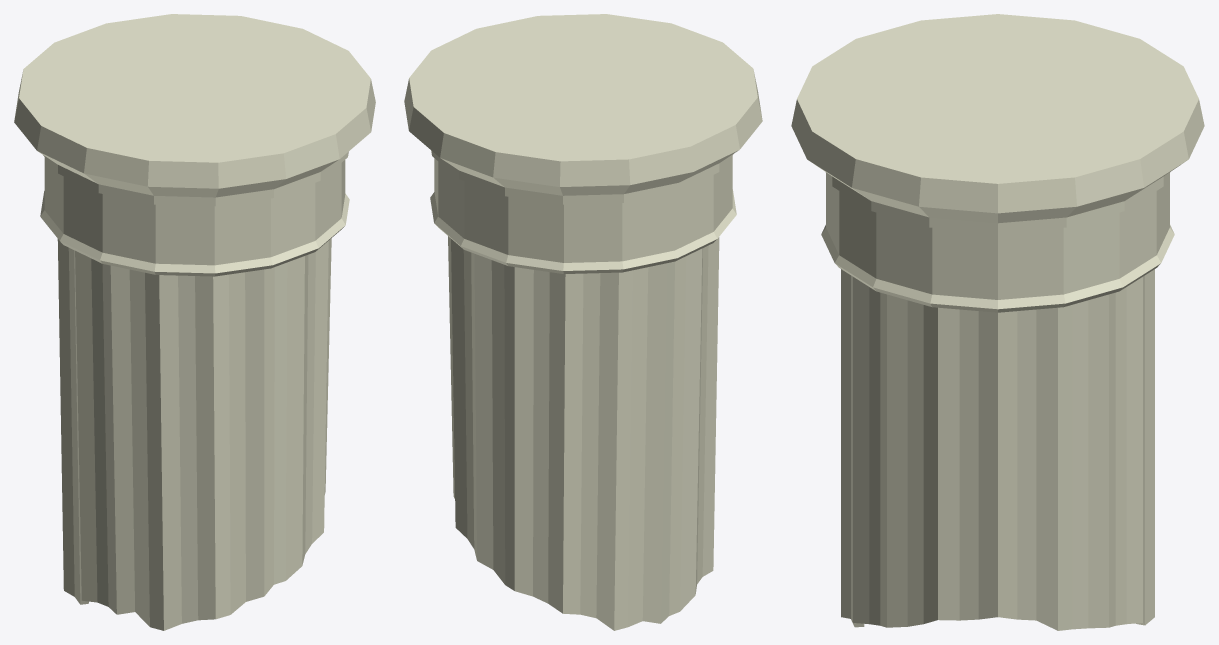
File: kolonnHalfUp.fbx
The picture shows the model from 3 angles, left to right: view 1: azimuth 30°, elevation 25°; view 2: azimuth 150°, elevation 25°; view 3: azimuth 270°, elevation 25°; orthographic projection. The views are drawn at different scales.
Visible parts, largest first — view 1: Circle.002; view 2: Circle.002; view 3: Circle.002.
Boxes of the visible parts, x1,y1,x2,y2 form: Circle.002: (14, 14, 375, 630); Circle.002: (404, 14, 762, 630); Circle.002: (791, 14, 1204, 630).
Size of the model in its own units: 85.57 by 129 by 85.57.
